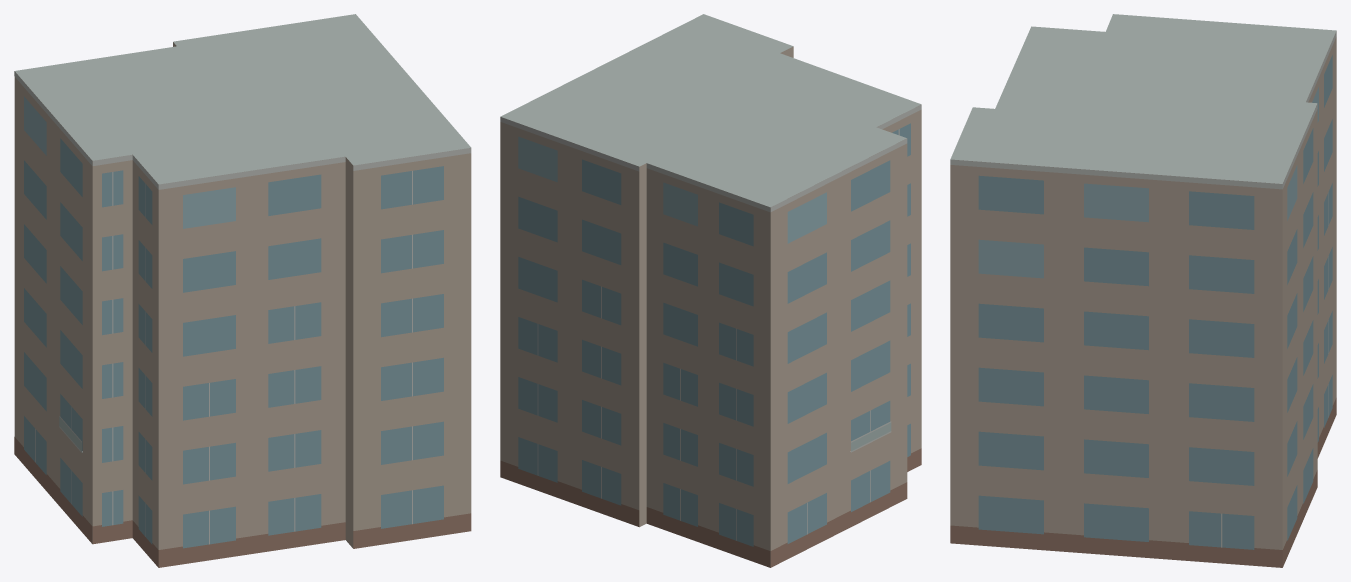
File: survey-upis-32514480.glb
3 renders of one model, left to right at view 1: azimuth 30°, elevation 25°; view 2: azimuth 150°, elevation 25°; view 3: azimuth 270°, elevation 25°, orthographic. The views are drawn at different scales.
Parts seen in each view (by area): view 1: survey-upis-32514480.tmp; view 2: survey-upis-32514480.tmp; view 3: survey-upis-32514480.tmp.
Part boxes in pixels (x1,y1,x2,y2): survey-upis-32514480.tmp: [14, 14, 471, 567]; survey-upis-32514480.tmp: [500, 14, 921, 567]; survey-upis-32514480.tmp: [950, 14, 1336, 567].
Bounding box in the file's own units: 16.54 × 17.4 × 15.88.
